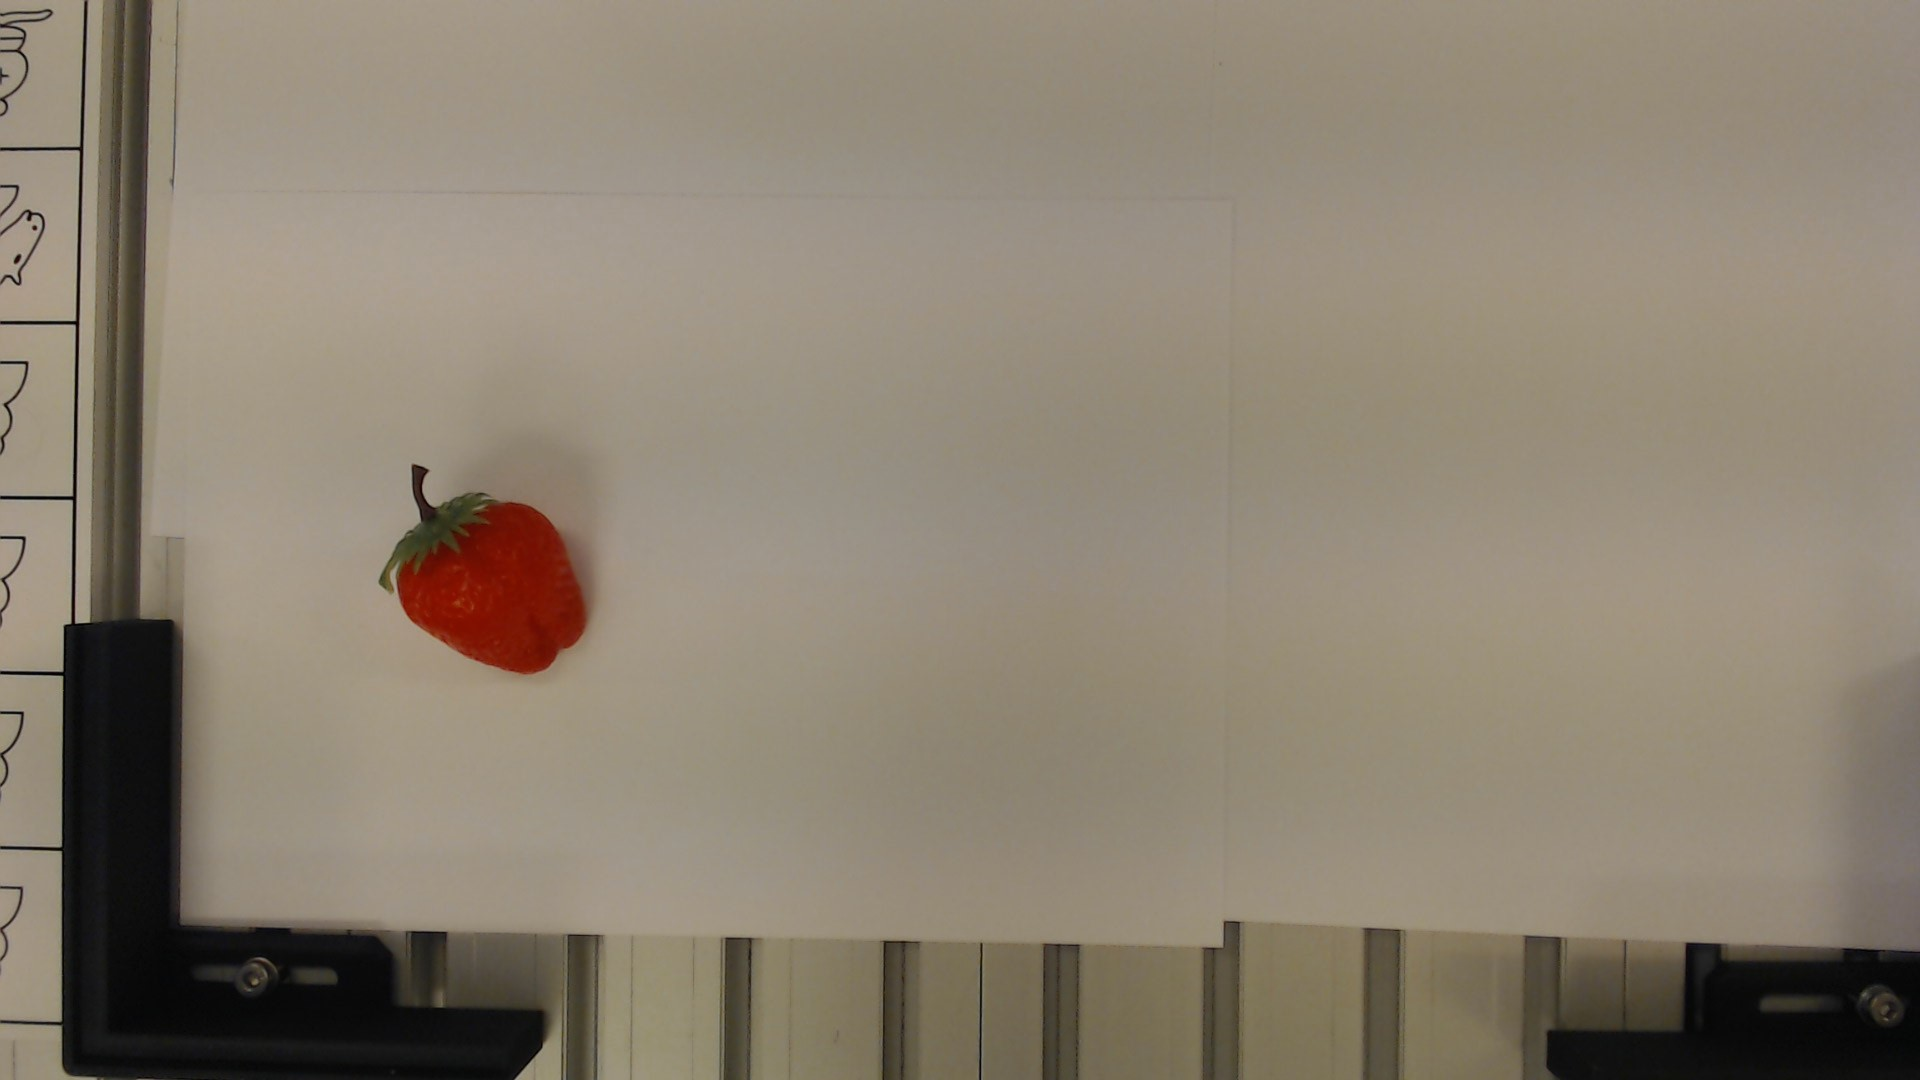Strawberry: (365, 454, 600, 676)
